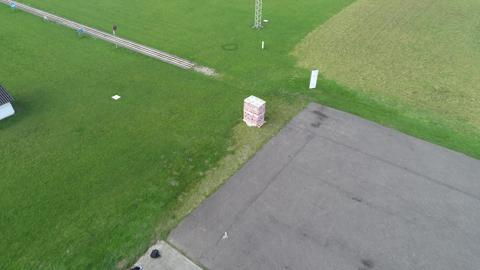RockwoolPallet: (243, 95, 266, 128)
